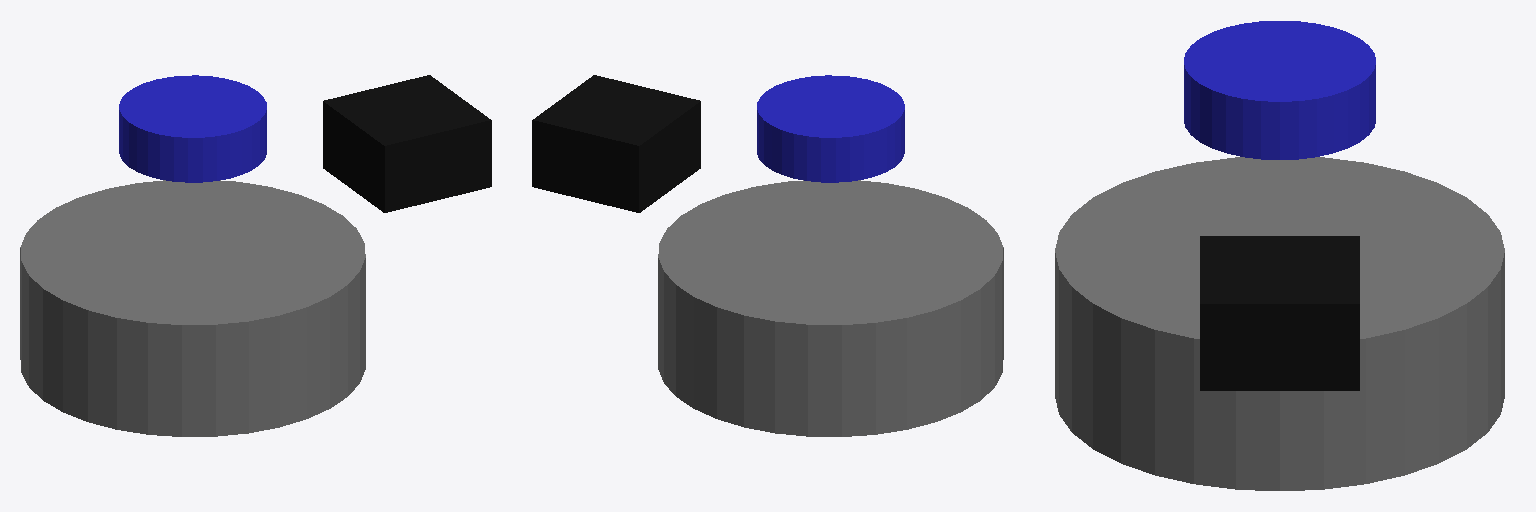
The robot description file, URDF, robot "inpipe_sensors":
<?xml version="1.0"?>
<robot name="inpipe_sensors">

  <!-- ============ Base ============ -->
  <link name="base_link">
    <visual>
      <geometry>
        <cylinder radius="0.07" length="0.05"/>
      </geometry>
      <material name="gray">
        <color rgba="0.5 0.5 0.5 1"/>
      </material>
    </visual>
    <collision>
      <geometry>
        <cylinder radius="0.07" length="0.05"/>
      </geometry>
    </collision>
    <inertial>
      <mass value="0.5"/>
      <inertia ixx="0.001" iyy="0.001" izz="0.001" ixy="0" ixz="0" iyz="0"/>
    </inertial>
  </link>

  <!-- ============ Camera ============ -->
  <link name="camera_link">
    <!-- Visual so it shows up in Gazebo -->
    <visual>
      <geometry>
        <box size="0.05 0.05 0.03"/>
      </geometry>
      <material name="black">
        <color rgba="0.1 0.1 0.1 1"/>
      </material>
    </visual>
    <collision>
      <geometry>
        <box size="0.05 0.05 0.03"/>
      </geometry>
    </collision>
    <inertial>
      <mass value="0.05"/>
      <inertia ixx="0.0001" iyy="0.0001" izz="0.0001" ixy="0" ixz="0" iyz="0"/>
    </inertial>
  </link>

  <joint name="base_to_camera" type="fixed">
    <!-- Pose of camera_link relative to base_link -->
    <origin xyz="0.1 0 0.05" rpy="0 0 0"/>
    <parent link="base_link"/>
    <child link="camera_link"/>
  </joint>

  <!-- ============ Lidar ============ -->
  <link name="lidar_link">
    <!-- Visual so it shows up in Gazebo -->
    <visual>
      <geometry>
        <cylinder radius="0.03" length="0.02"/>
      </geometry>
      <material name="blue">
        <color rgba="0.2 0.2 0.8 1.0"/>
      </material>
    </visual>
    <collision>
      <geometry>
        <cylinder radius="0.03" length="0.02"/>
      </geometry>
    </collision>
    <inertial>
      <mass value="0.03"/>
      <inertia ixx="0.00005" iyy="0.00005" izz="0.00005" ixy="0" ixz="0" iyz="0"/>
    </inertial>
  </link>

  <joint name="base_to_lidar" type="fixed">
    <!-- Pose of lidar_link relative to base_link -->
    <origin xyz="0.0 0 0.08" rpy="0 0 0"/>
    <parent link="base_link"/>
    <child link="lidar_link"/>
  </joint>

  <!-- ============ Camera sensor (ROS 2 Gazebo Classic) ============ -->
  <gazebo reference="camera_link">
    <sensor name="front_camera" type="camera">
      <always_on>true</always_on>
      <update_rate>30</update_rate>
      <camera name="main_cam">
        <horizontal_fov>1.047</horizontal_fov>
        <image>
          <width>640</width>
          <height>480</height>
          <format>R8G8B8</format>
        </image>
        <clip>
          <near>0.05</near>
          <far>10.0</far>
        </clip>
      </camera>
      <plugin name="gazebo_ros_camera" filename="libgazebo_ros_camera.so">
        <ros>
          <namespace>/inpipe_bot</namespace>
          <!-- Use defaults; remap externally if needed -->
        </ros>
        <frame_name>camera_link</frame_name>
      </plugin>
    </sensor>
  </gazebo>

  <!-- ============ Lidar sensor (2D ray) ============ -->
  <gazebo reference="lidar_link">
    <sensor name="front_laser" type="ray">
      <always_on>true</always_on>
      <update_rate>10</update_rate>
      <visualize>true</visualize>
      <ray>
        <scan>
          <horizontal>
            <samples>360</samples>
            <resolution>1</resolution>
            <min_angle>-3.14159</min_angle>
            <max_angle>3.14159</max_angle>
          </horizontal>
        </scan>
        <range>
          <min>0.05</min>
          <max>10.0</max>
          <resolution>0.01</resolution>
        </range>
        <noise>
          <type>gaussian</type>
          <mean>0.0</mean>
          <stddev>0.01</stddev>
        </noise>
      </ray>
      <plugin name="gazebo_ros_ray_sensor" filename="libgazebo_ros_ray_sensor.so">
        <ros>
          <namespace>/inpipe_bot</namespace>
            <remapping>~/out:=lidar/scan</remapping>
          <!-- Default topic is /inpipe_bot/front_laser/scan -->
        </ros>
        <frame_name>lidar_link</frame_name>
      </plugin>
    </sensor>
  </gazebo>
  
  <gazebo reference="base_link">
  <gravity>false</gravity>
  <self_collide>false</self_collide>
</gazebo>




  <!-- ============ Optional: publish Gazebo state to TF ============ -->
  <gazebo>
    <plugin name="tf_publisher" filename="libgazebo_ros_state.so">
      <ros>
        <namespace>/inpipe_bot</namespace>
      </ros>
      <publish_tf>true</publish_tf>
      <update_rate>30</update_rate>
    </plugin>
  </gazebo>

</robot>

--- Render facts (derived) ---
3 views of the same robot in one strip: view 1: azimuth 30°, elevation 25°; view 2: azimuth 150°, elevation 25°; view 3: azimuth 270°, elevation 25° (orthographic).
Model inpipe_sensors with 3 links and 2 joints (2 fixed), rooted at base_link, posed every joint at zero.
Visible links, largest first — view 1: base_link, camera_link, lidar_link; view 2: base_link, camera_link, lidar_link; view 3: base_link, camera_link, lidar_link.
Link boxes in pixels (x1,y1,x2,y2): base_link: (20, 180, 365, 436); camera_link: (323, 75, 491, 212); lidar_link: (119, 75, 266, 182); base_link: (658, 180, 1003, 436); camera_link: (532, 75, 700, 212); lidar_link: (757, 75, 904, 182); base_link: (1055, 157, 1504, 490); camera_link: (1200, 236, 1359, 390); lidar_link: (1184, 21, 1375, 159).
Size in the robot's own frame: 0.195 by 0.14 by 0.115 metres.
Geometry: primitives only (box / cylinder / sphere), no mesh files.
